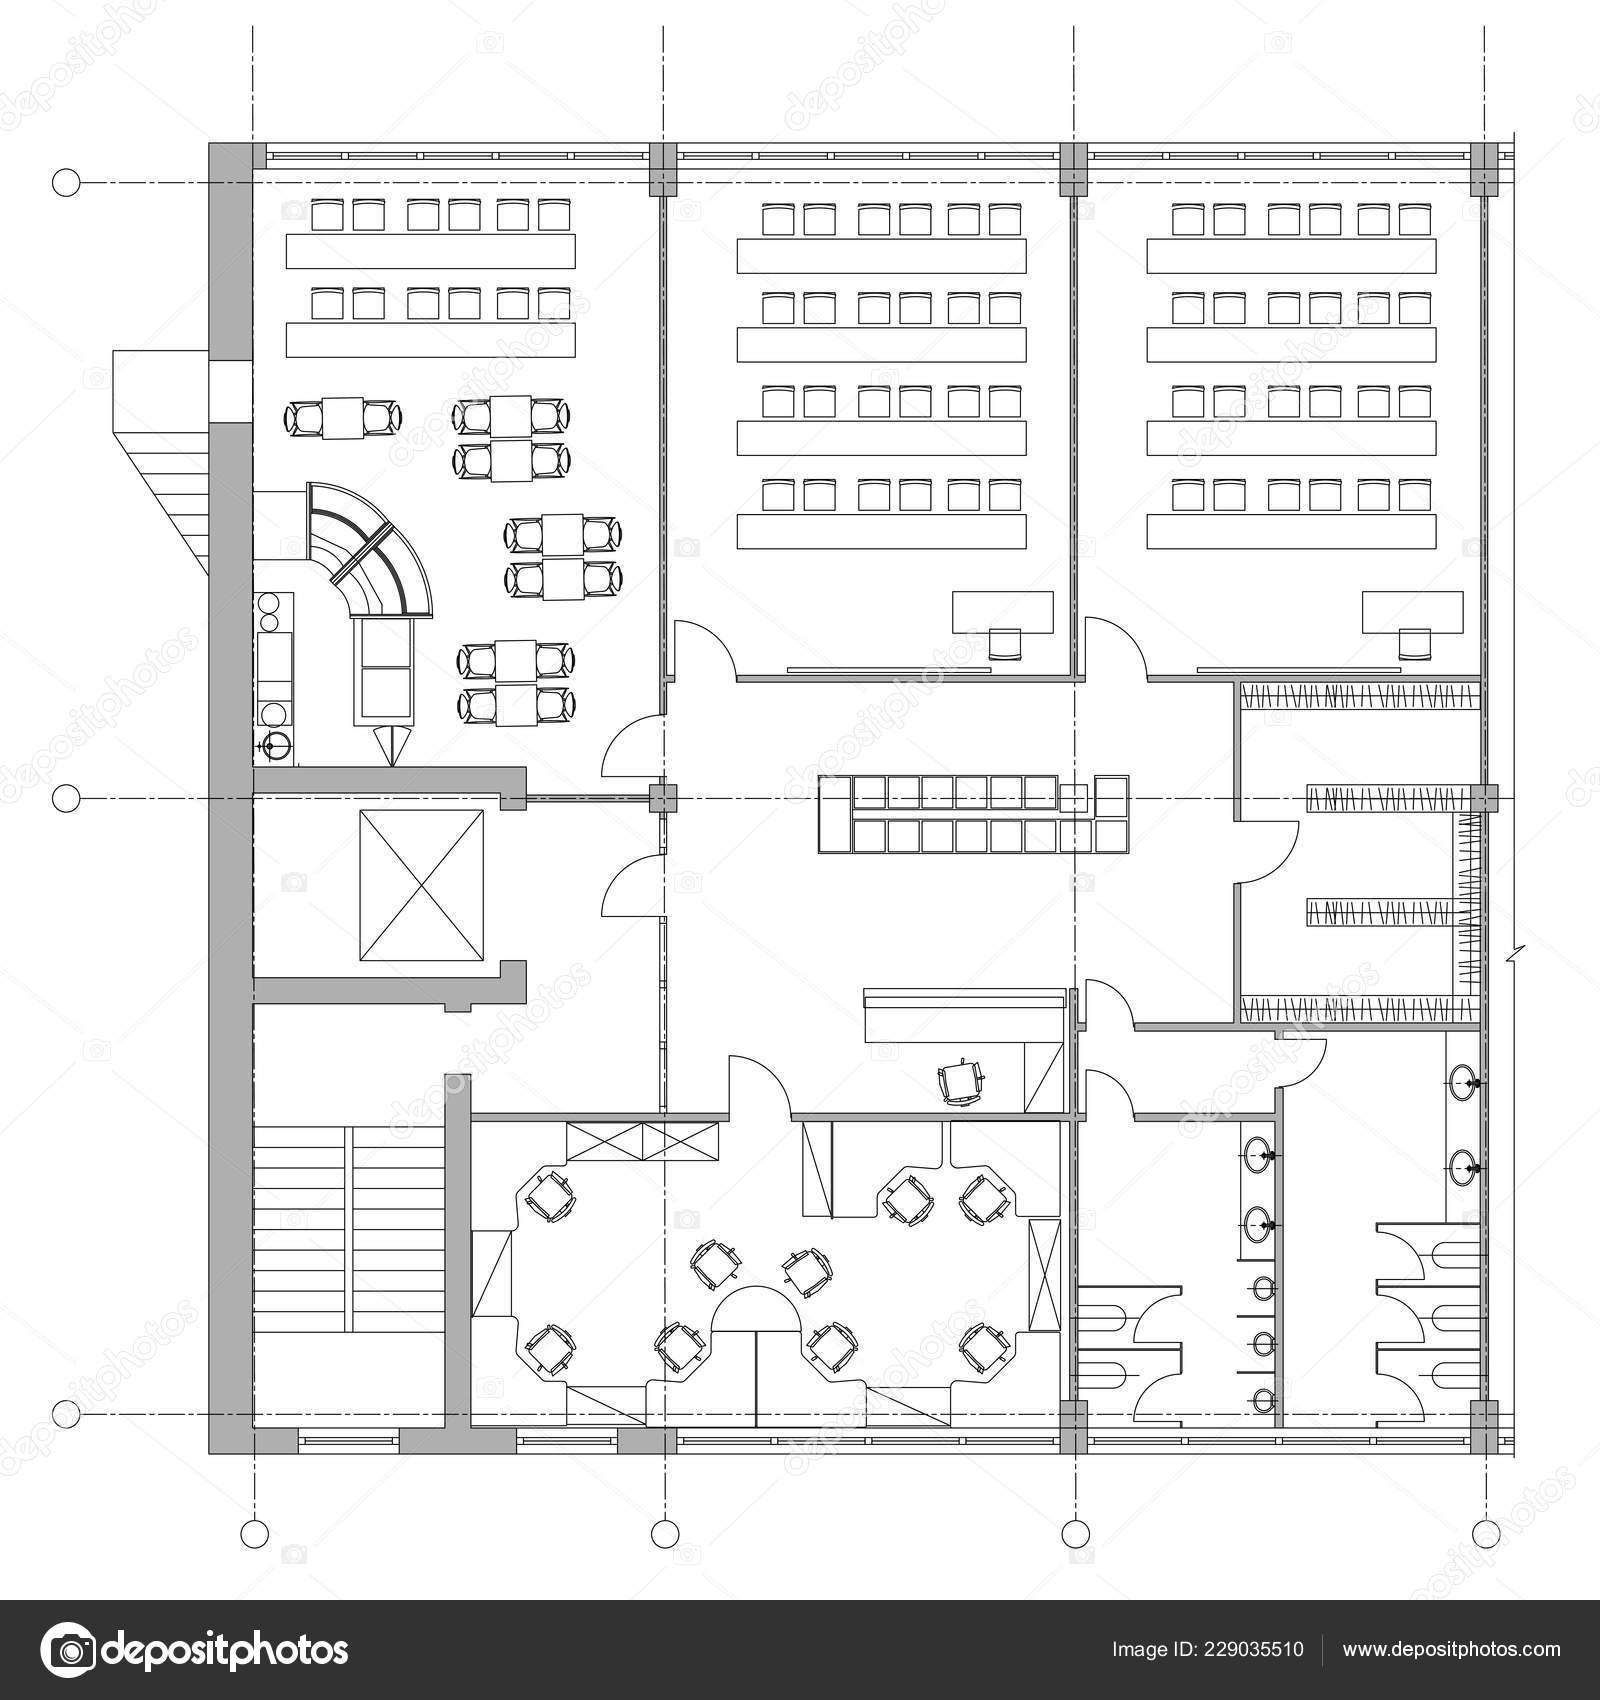room: (232, 156, 665, 797), (663, 679, 1238, 1117), (1074, 153, 1486, 679), (665, 156, 1075, 678), (457, 1115, 1072, 1440), (241, 989, 459, 1437), (1235, 681, 1484, 1027), (1278, 1030, 1487, 1438), (1074, 1115, 1280, 1440), (235, 798, 513, 989), (1072, 1027, 1278, 1117)
